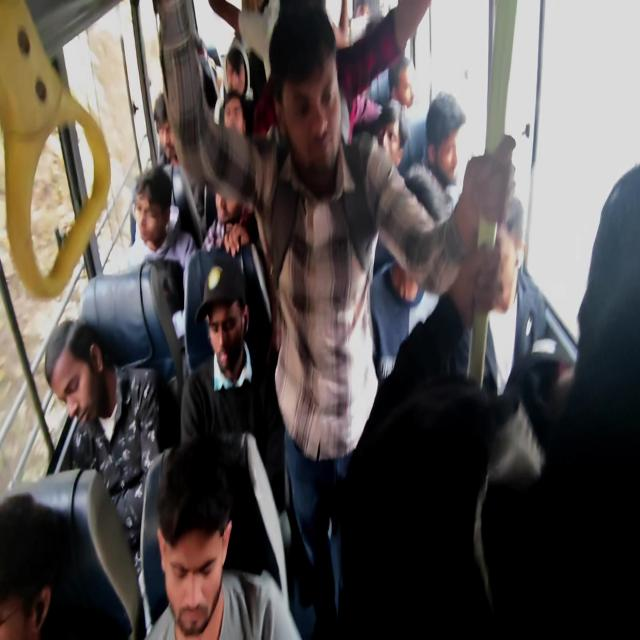person: (156, 462, 254, 640), (488, 223, 599, 364), (0, 518, 101, 640), (55, 317, 145, 446), (606, 222, 640, 556), (399, 185, 474, 322), (182, 250, 248, 326), (214, 172, 271, 243), (264, 47, 306, 141), (436, 101, 484, 179), (145, 87, 189, 157), (175, 36, 225, 93), (114, 162, 148, 240), (396, 49, 432, 117), (210, 98, 255, 146), (373, 117, 405, 174), (216, 45, 246, 105)
